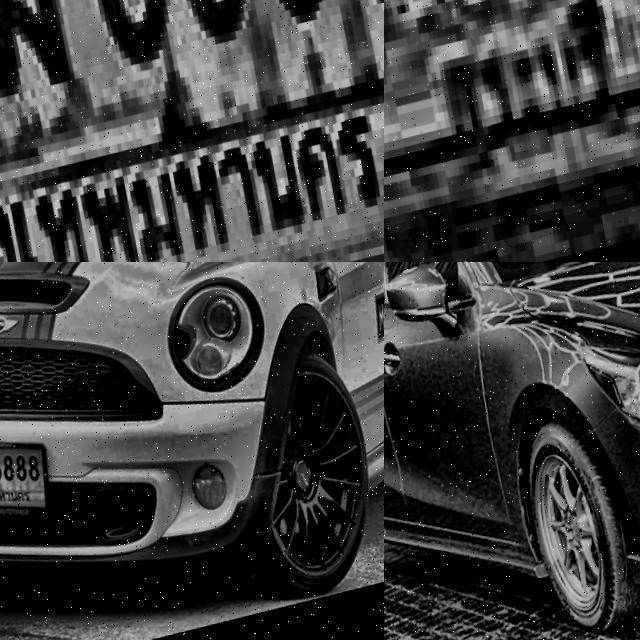license-plate: (0, 0, 384, 262), (384, 0, 640, 262), (0, 418, 54, 537)
